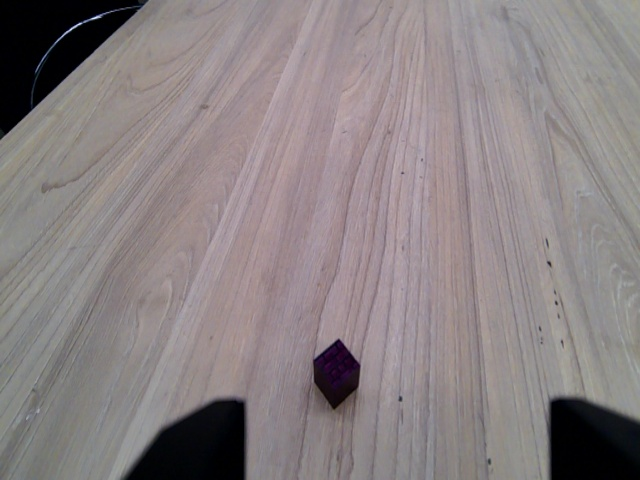brick: (307, 337, 363, 410)
